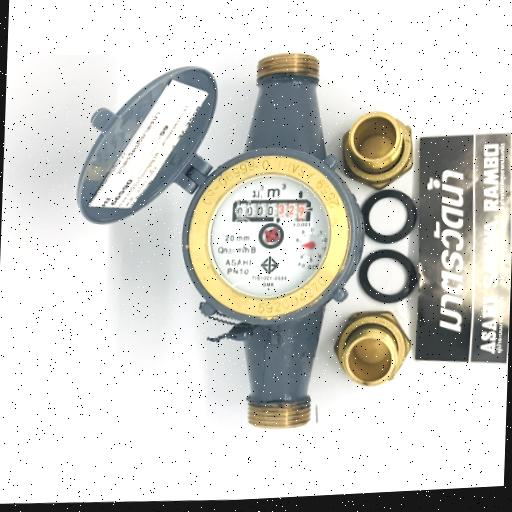0: (265, 202, 277, 217), (245, 202, 256, 218), (256, 202, 267, 217), (235, 203, 245, 217)
2: (287, 201, 298, 217)
3: (276, 202, 288, 217)
9: (297, 202, 308, 220)
border_water_meter_number: (232, 195, 312, 227)
